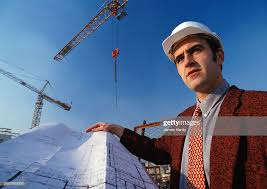Person_wearing_helmet: (163, 15, 221, 64)
